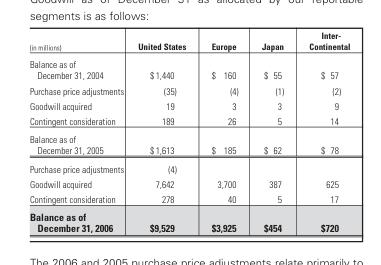table: (28, 29, 349, 233)
table column: (28, 29, 130, 233), (130, 29, 198, 233), (295, 29, 349, 233), (198, 29, 249, 233), (249, 29, 295, 233)
table column header: (28, 29, 349, 54)
table row: (28, 129, 349, 159), (28, 54, 349, 82), (28, 207, 349, 233), (28, 29, 349, 54), (28, 112, 349, 129), (28, 159, 349, 176), (28, 191, 349, 207), (28, 82, 349, 97), (28, 97, 349, 112), (28, 176, 349, 191)
